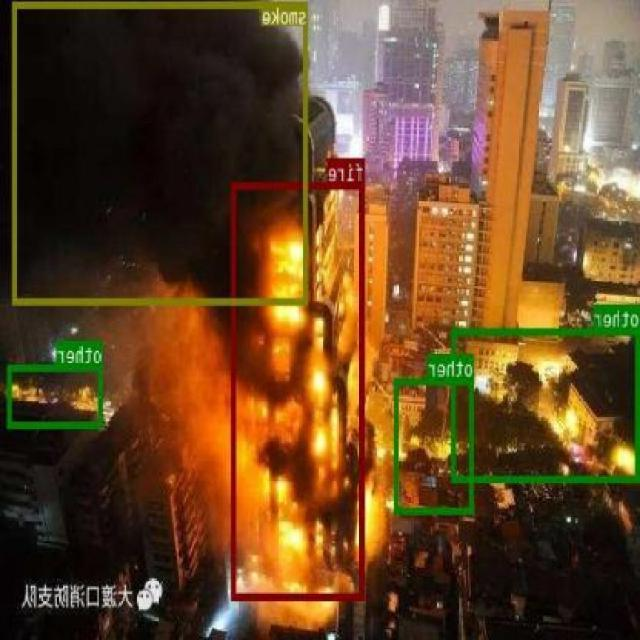Fire: (232, 182, 366, 598)
Smoke: (13, 1, 309, 304)
